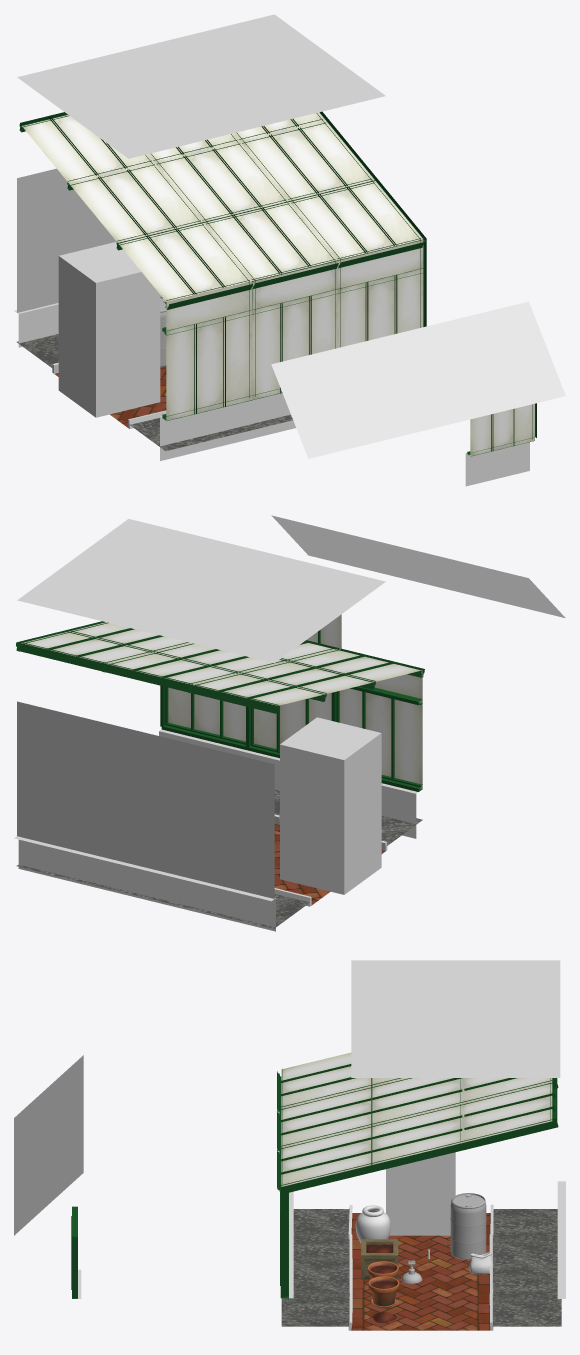
Rendered from greenhouse02.fbx.
3 renders of one model, top to bottom at view 1: azimuth 30°, elevation 25°; view 2: azimuth 150°, elevation 25°; view 3: azimuth 270°, elevation 25°, orthographic. The views are drawn at different scales.
Visible parts, largest first — view 1: Plane.003, Plane.004, Cube, BrickWall.001, Window.002, Window.011, Window.003, Window.010, Window.008, Window.012, Window.009, Window.001 (+19 smaller); view 2: Plane.003, BrickWall.001, BrickWall, Cube, Plane.004, Window.002, Window, Window.001, BrickWallSm.009, BrickWallSm.005, BrickWallSm.003, BrickWallSm.004 (+19 smaller); view 3: Plane.003, Plane.004, Path.002, Cube, Gravel.001, Gravel, Gravel.002, Window.013, Window.008, Window.003, Window.009, Gravel.003 (+11 smaller).
Boxes of the visible parts, left/top/right/bottom form: Plane.003: left=17, top=14, right=385, bottom=158; Plane.004: left=271, top=301, right=565, bottom=458; Cube: left=58, top=242, right=160, bottom=417; BrickWall.001: left=17, top=168, right=116, bottom=312; Window.002: left=166, top=310, right=251, bottom=420; Window.011: left=156, top=143, right=288, bottom=221; Window.003: left=290, top=181, right=422, bottom=259; Window.010: left=119, top=223, right=251, bottom=301; Window.008: left=241, top=122, right=374, bottom=200; Window.012: left=70, top=163, right=202, bottom=242; Window.009: left=204, top=202, right=337, bottom=280; Window.001: left=252, top=289, right=337, bottom=399; Plane.003: left=17, top=519, right=385, bottom=663; BrickWall.001: left=145, top=733, right=274, bottom=898; BrickWall: left=17, top=701, right=145, bottom=867; Cube: left=280, top=717, right=381, bottom=894; Plane.004: left=271, top=515, right=565, bottom=617; Window.002: left=339, top=688, right=422, bottom=788; Window: left=168, top=687, right=245, bottom=741; Window.001: left=254, top=693, right=331, bottom=748; BrickWallSm.009: left=207, top=883, right=275, bottom=931; BrickWallSm.005: left=14, top=836, right=82, bottom=884; BrickWallSm.003: left=143, top=867, right=211, bottom=915; BrickWallSm.004: left=79, top=852, right=147, bottom=899; Plane.003: left=351, top=960, right=560, bottom=1077; Plane.004: left=14, top=1055, right=83, bottom=1235; Path.002: left=351, top=1272, right=490, bottom=1330; Cube: left=386, top=1152, right=455, bottom=1235; Gravel.001: left=493, top=1268, right=561, bottom=1326; Gravel: left=493, top=1209, right=557, bottom=1267; Gravel.002: left=281, top=1268, right=349, bottom=1326; Window.013: left=462, top=1082, right=552, bottom=1142; Window.008: left=372, top=1104, right=462, bottom=1164; Window.003: left=281, top=1126, right=371, bottom=1186; Window.009: left=281, top=1087, right=371, bottom=1147; Gravel.003: left=293, top=1209, right=349, bottom=1267.
Bounding box in the file's own units: 852 × 831 × 1584.
